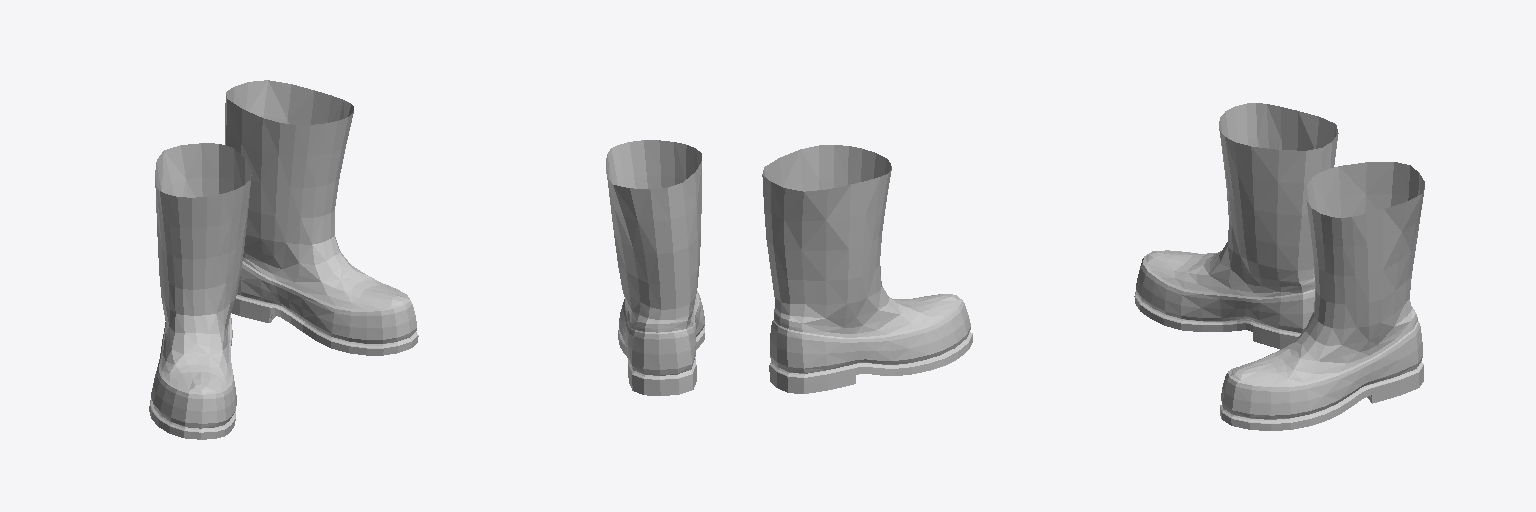
Rendered from Botas.obj.
3 renders of one model, left to right at view 1: azimuth 30°, elevation 25°; view 2: azimuth 150°, elevation 25°; view 3: azimuth 270°, elevation 25°, orthographic.
Parts seen in each view (by area): view 1: Mesh1 Group1 STIVALI_BIANCHI STIVALI_BIANCHI_1_1 Model, Mesh5 Group2 STIVALI_BIANCHI STIVALI_BIANCHI_1_1 Model; view 2: Mesh5 Group2 STIVALI_BIANCHI STIVALI_BIANCHI_1_1 Model, Mesh1 Group1 STIVALI_BIANCHI STIVALI_BIANCHI_1_1 Model; view 3: Mesh1 Group1 STIVALI_BIANCHI STIVALI_BIANCHI_1_1 Model, Mesh5 Group2 STIVALI_BIANCHI STIVALI_BIANCHI_1_1 Model.
Part boxes in pixels (x1,y1,x2,y2): Mesh1 Group1 STIVALI_BIANCHI STIVALI_BIANCHI_1_1 Model: (225,80,418,355); Mesh5 Group2 STIVALI_BIANCHI STIVALI_BIANCHI_1_1 Model: (149,143,251,439); Mesh5 Group2 STIVALI_BIANCHI STIVALI_BIANCHI_1_1 Model: (762,145,972,393); Mesh1 Group1 STIVALI_BIANCHI STIVALI_BIANCHI_1_1 Model: (606,140,704,395); Mesh1 Group1 STIVALI_BIANCHI STIVALI_BIANCHI_1_1 Model: (1220,162,1424,430); Mesh5 Group2 STIVALI_BIANCHI STIVALI_BIANCHI_1_1 Model: (1134,103,1338,349).
Size of the model in its own units: 1.11 by 0.7991 by 0.9732.